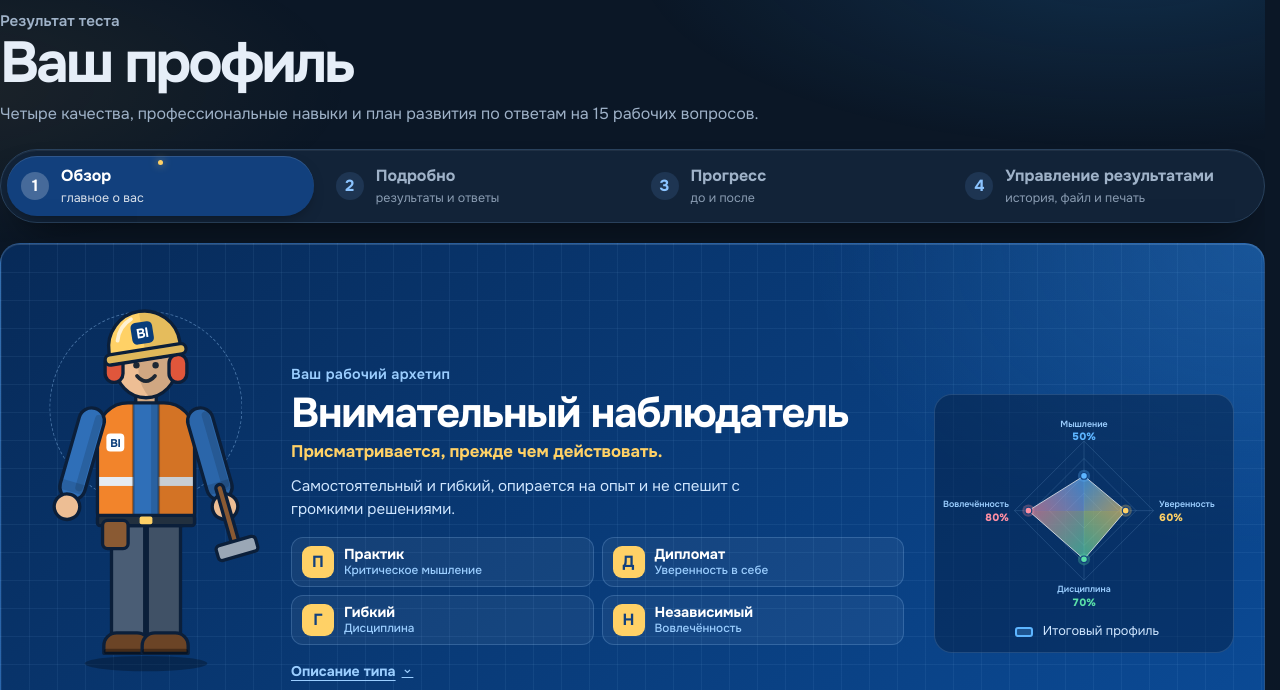
Scenario: профиль сотрудника: обзор и подробности › прогресс: проценты к первому и серединному прохождению зелёным и красным, «новое» — для неоценённого раньше
Click the tab "3 Прогресс до и после": (728, 176) [636, 156, 943, 216]
(page scrolled)
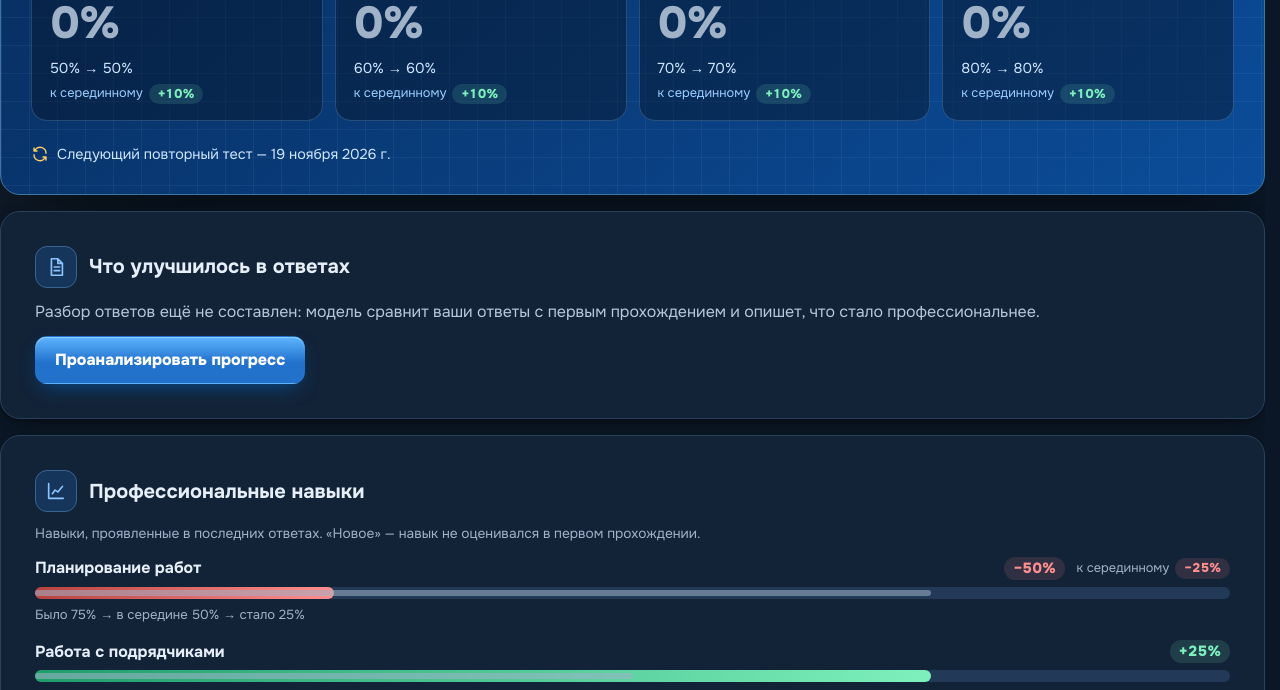
Expected: the text "+10%" is shown 4 times, [158, 86, 194, 102]; [462, 86, 498, 102]; [765, 86, 802, 102]; [1069, 86, 1106, 102]
Expected: the text "+25%" is shown, [1179, 642, 1221, 661]
Expected: the button "Проанализировать прогресс" is shown, [35, 336, 305, 384]
